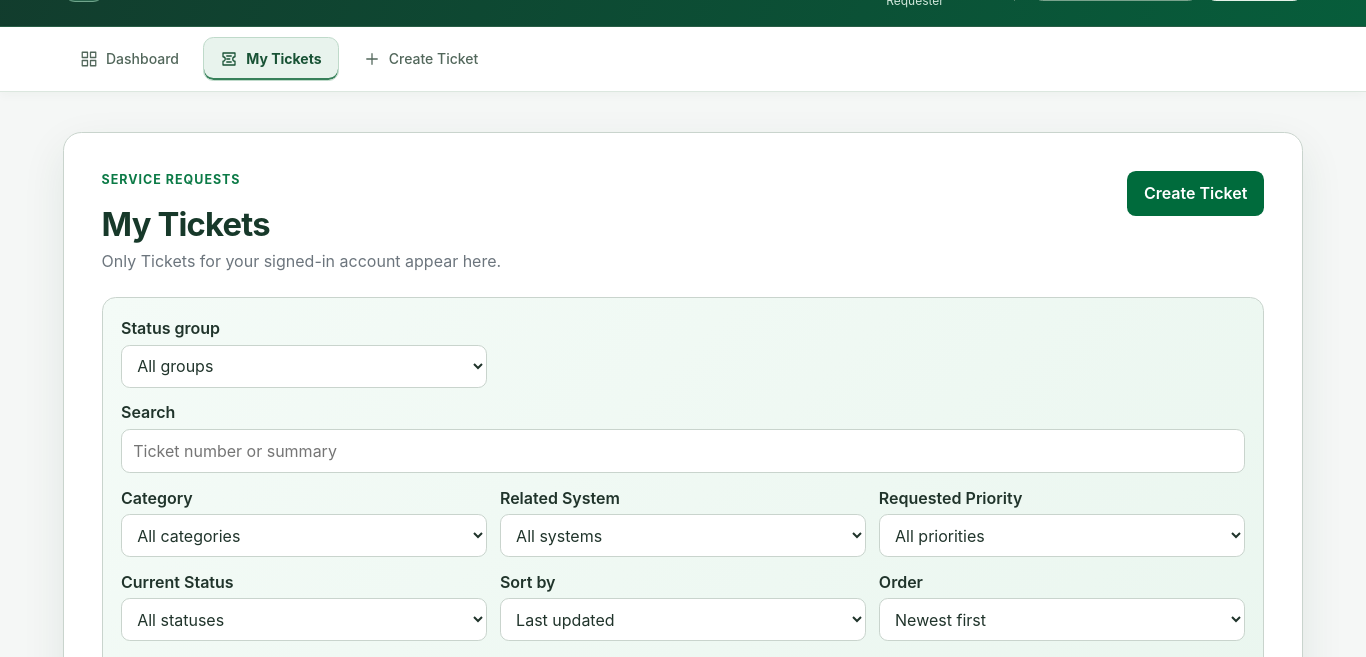
Test: Create Ticket › uses the signed-in requester and displays the official ticket number after submission
Expected: the heading "My Tickets" is shown, [102, 204, 270, 244]
Click the 1st button "Create Ticket" at (420, 59), box [346, 37, 495, 81]
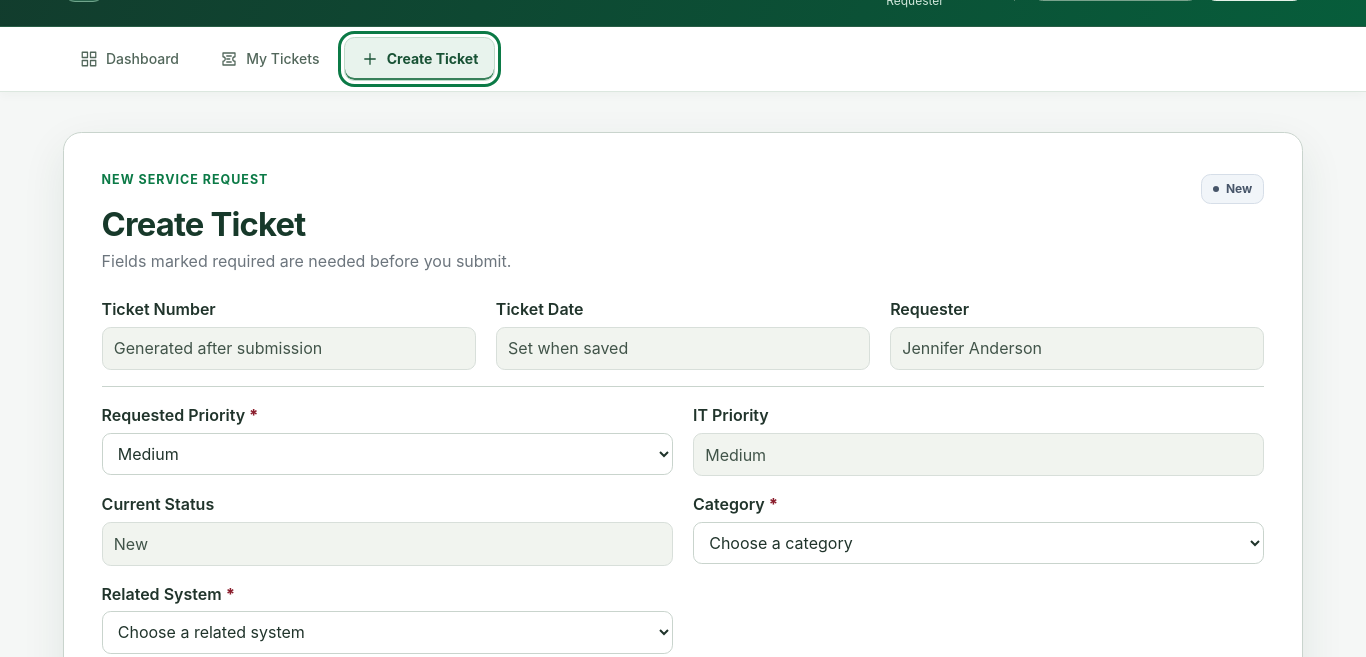
Now the field labelled "Requester" holds "Jennifer Anderson", box [890, 327, 1264, 370]
Now the field labelled "Ticket Number" holds "Generated after submission", box [102, 327, 476, 370]
Now the field labelled "Ticket Date" holds "Set when saved", box [496, 327, 870, 370]
Select "Hardware" in the dropdown labelled "Category" at (979, 543), box [693, 522, 1264, 564]
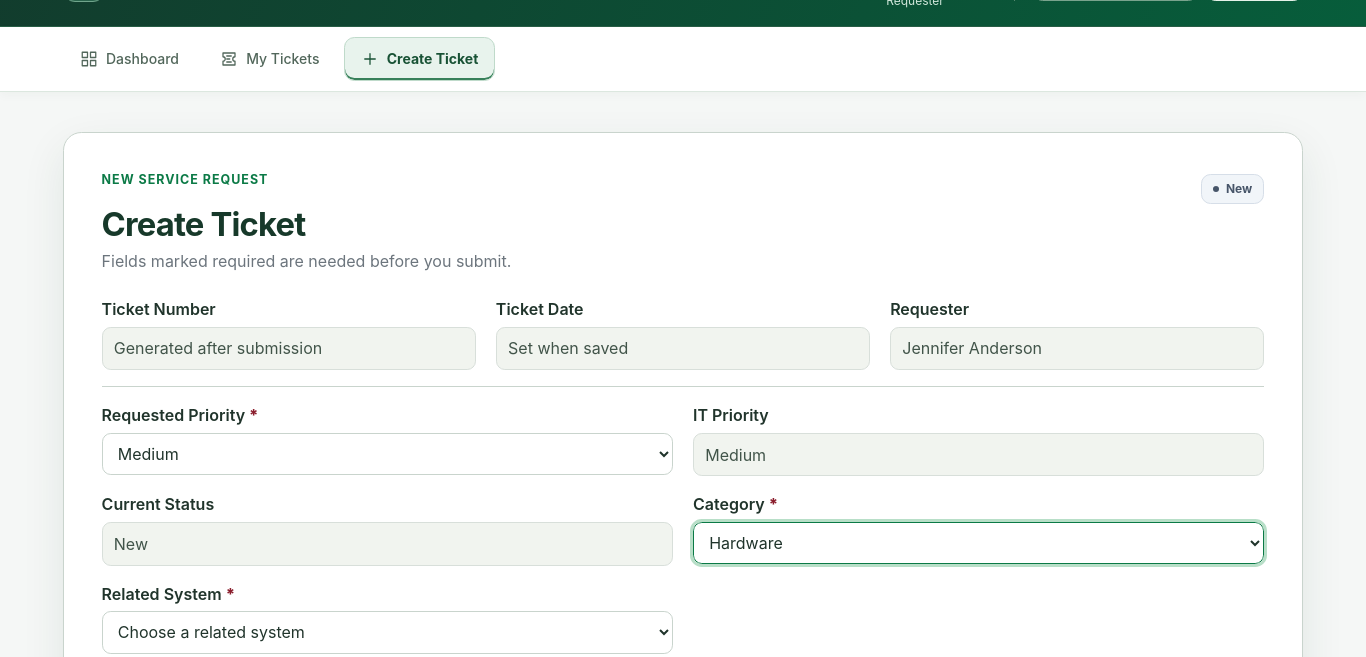
Select "Corporate Laptop" in the dropdown labelled "Related System" at (387, 632), box [102, 611, 673, 654]
(page scrolled)
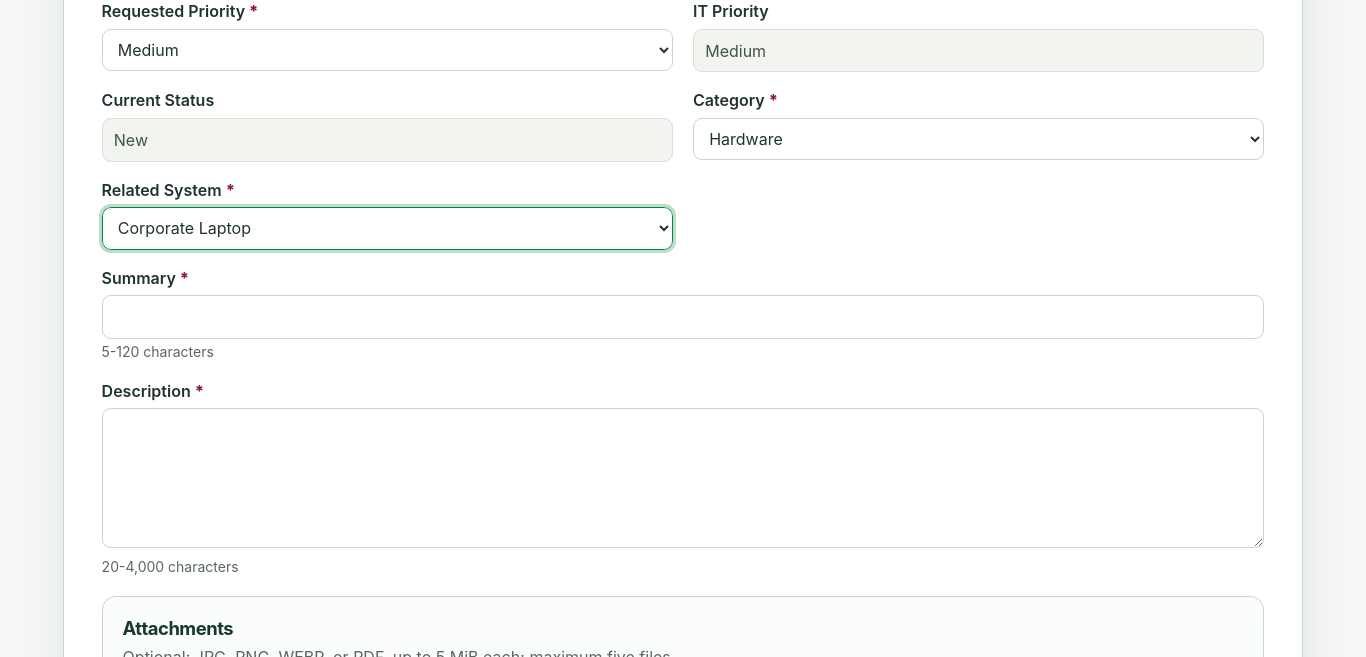
Type "Laptop battery drains quickly" into the field labelled "Summary" at (683, 317), box [102, 295, 1264, 339]
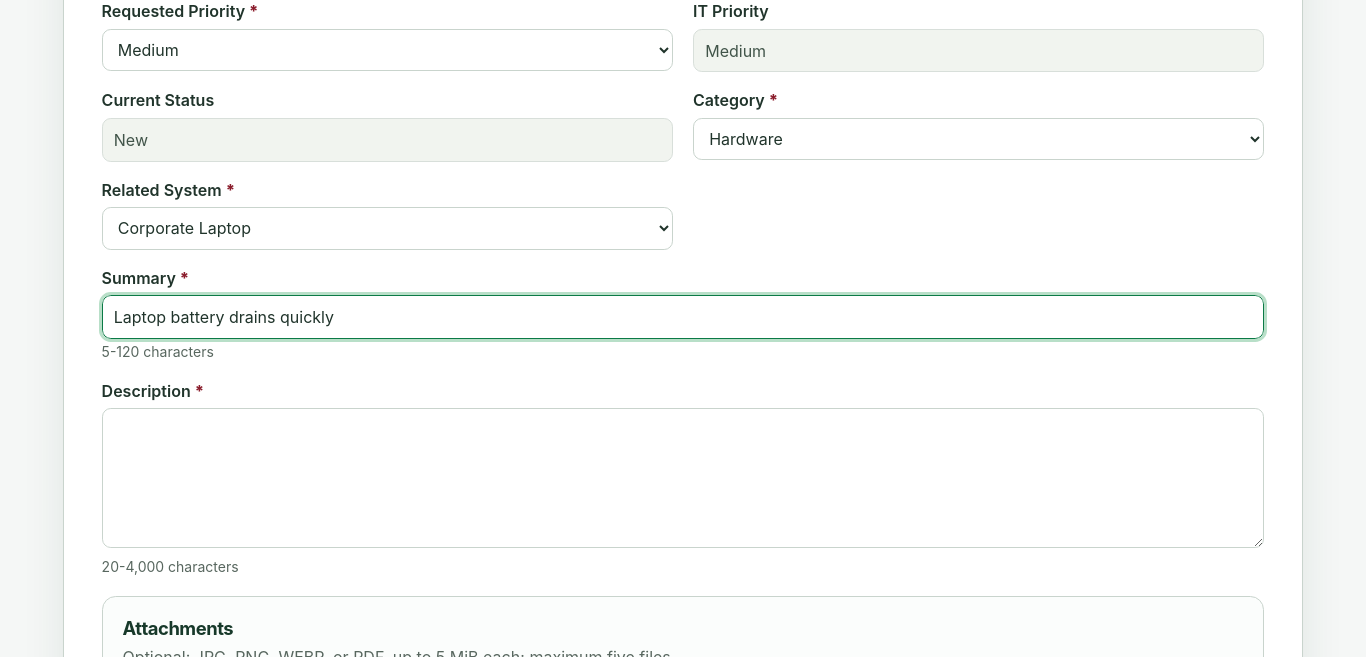
Type "The battery drops from full charge to empty within one hour." into the text box labelled "Description" at (683, 478), box [102, 408, 1264, 548]
(page scrolled)
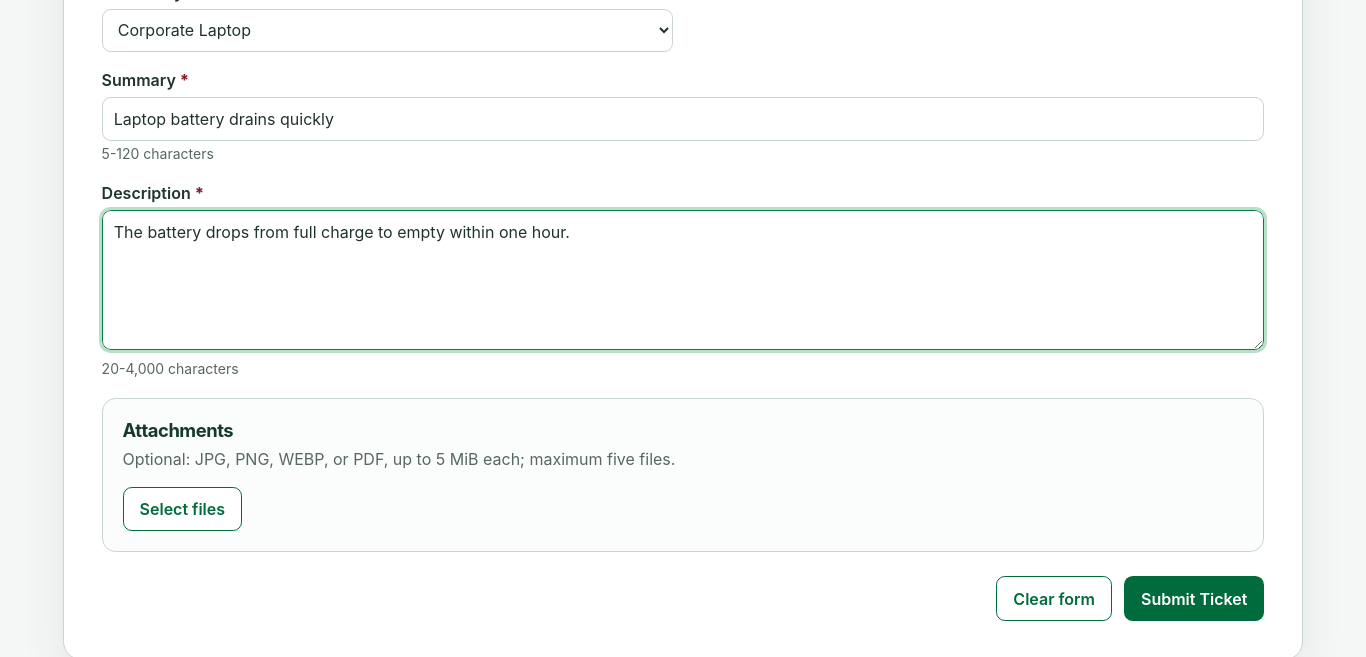
Click the button "Submit Ticket" at (1194, 599), box [1124, 576, 1264, 621]
(page scrolled)
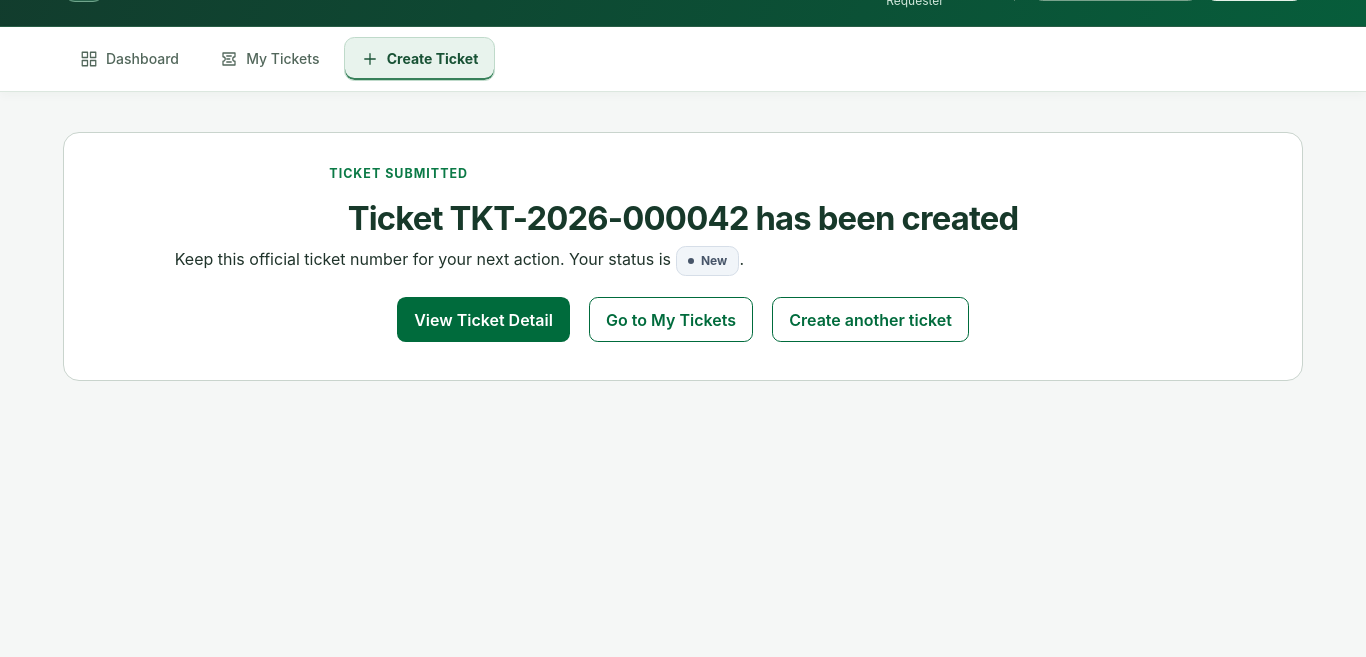
Now the heading "Ticket TKT-2026-000042 has been created" is shown, box [348, 198, 1018, 238]
